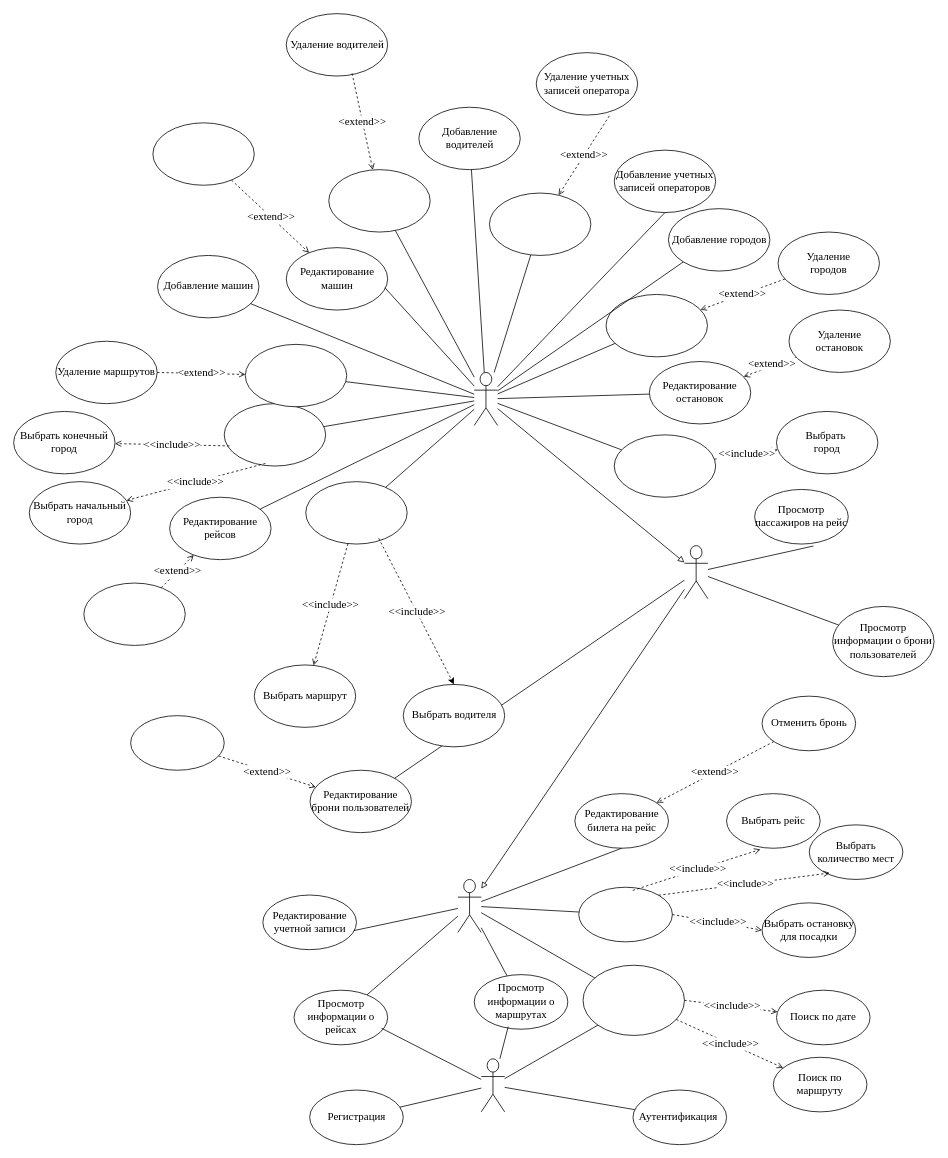
Some shapes in this 948 by 1158 pixel diagram are drawn without their labels. Here are the shapes that lost their labels. From the top down, the centre of each, then its label:
At point (203, 153): "Удаление машин".
At point (379, 200): "Редактирование водителей".
At point (540, 223): "Редактирование учетных записей оператора".
At point (656, 325): "Редактирование городов".
At point (296, 375): "Редактирование маршрутов".
At point (485, 398): "Администратор".
At point (274, 434): "Добавление маршрутов".
At point (664, 465): "Добавление остановок".
At point (356, 512): "Добавление рейсов".
At point (696, 572): "Оператор".
At point (134, 613): "Удаление рейсов".
At point (177, 742): "Отмена брони пользователей".
At point (469, 905): "Клиент".
At point (625, 914): "Бронирование билета на рейс".
At point (633, 999): "Поиск информации о рейсах".
At point (492, 1085): "Гость".
